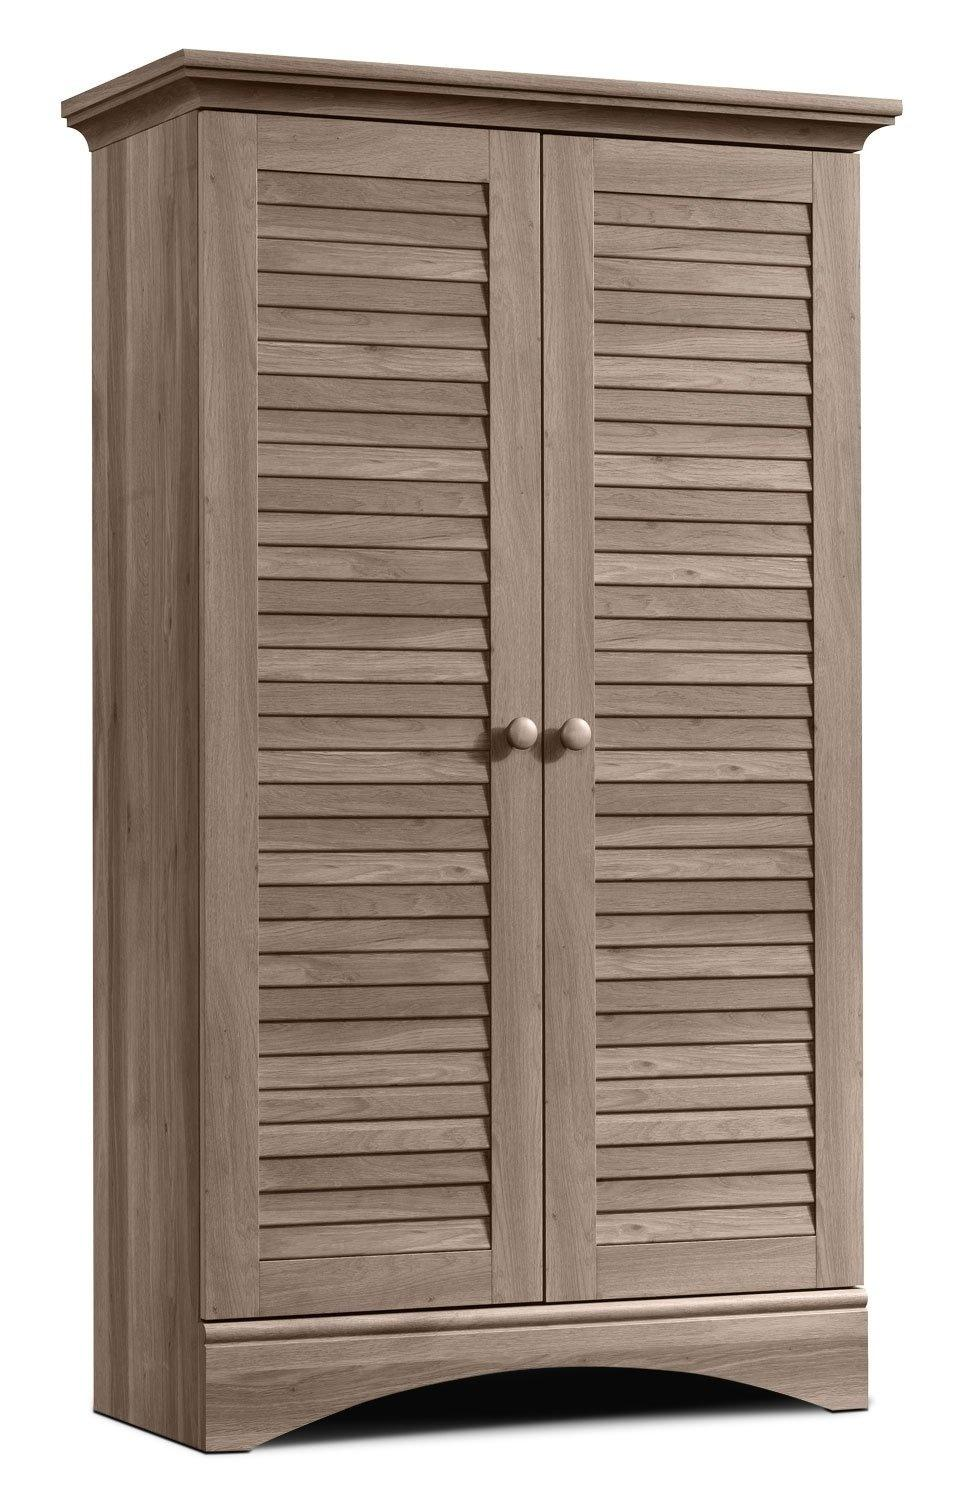cabinet_door: (214, 122, 546, 1325), (545, 143, 858, 1312)
handle: (560, 703, 593, 774), (508, 705, 541, 772)
